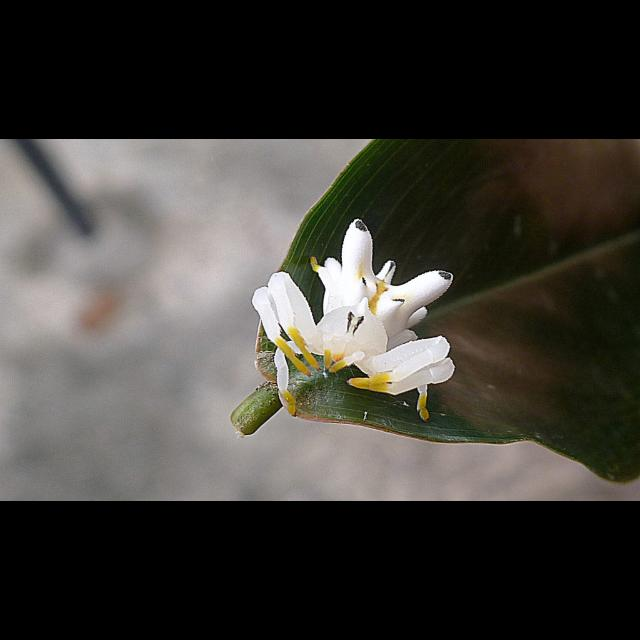Flower: (231, 213, 469, 437)
